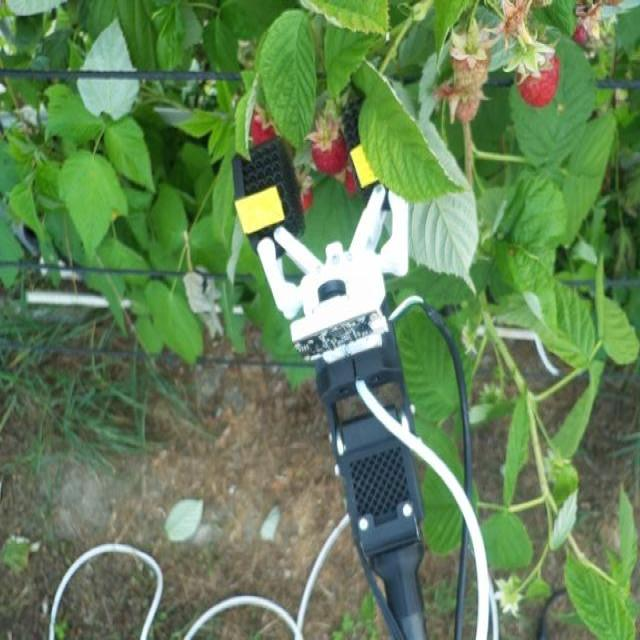Riped berries: (506, 37, 571, 109), (305, 111, 349, 172), (244, 100, 279, 144), (297, 173, 319, 211), (341, 163, 364, 195), (570, 21, 592, 44)
